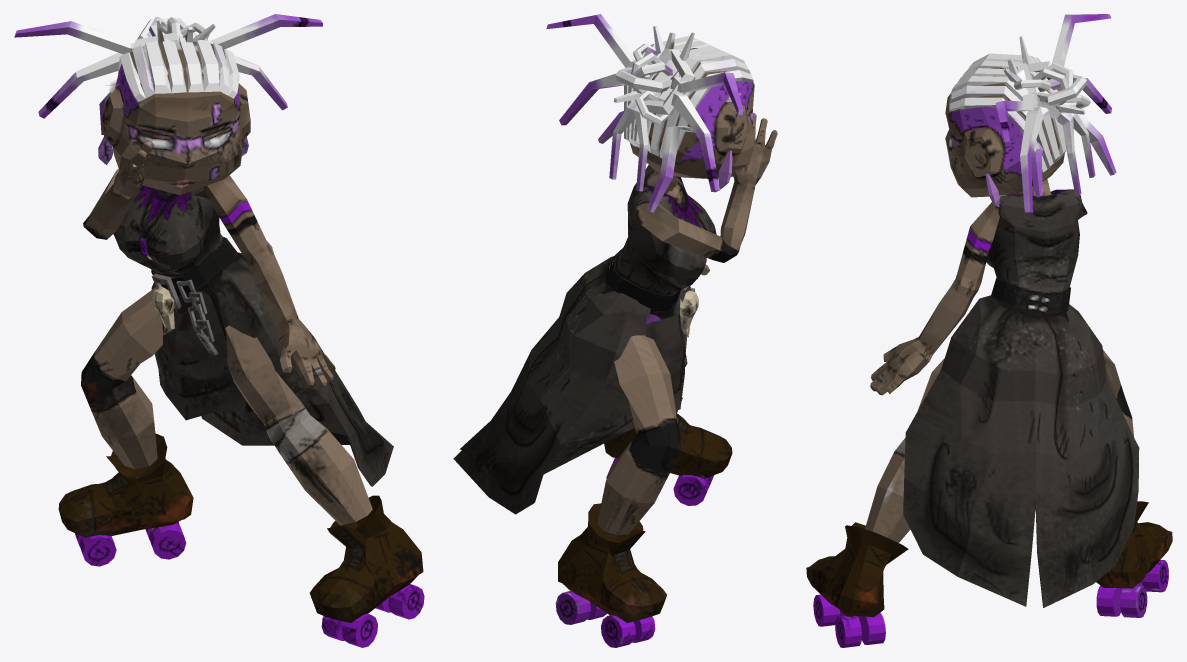
Rendered from bruja_000044.obj.
3 renders of one model, left to right at view 1: azimuth 30°, elevation 25°; view 2: azimuth 150°, elevation 25°; view 3: azimuth 270°, elevation 25°, orthographic. The views are drawn at different scales.
Parts seen in each view (by area): view 1: Bruja_Plane.001; view 2: Bruja_Plane.001; view 3: Bruja_Plane.001.
Part boxes in pixels (x1,y1,x2,y2): Bruja_Plane.001: [14, 14, 424, 647]; Bruja_Plane.001: [453, 14, 777, 647]; Bruja_Plane.001: [806, 14, 1172, 647].
Size of the model in its own units: 9.26 by 15.44 by 9.25.
